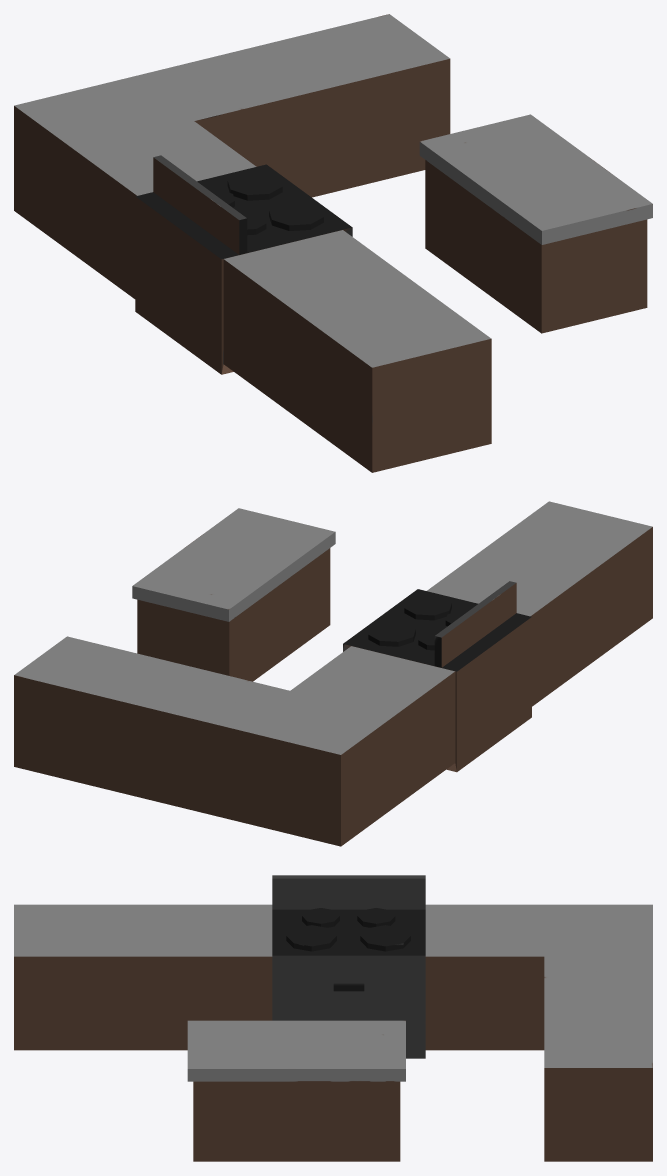
The model's file is counter.fbx.
3 renders of one model, top to bottom at view 1: azimuth 30°, elevation 25°; view 2: azimuth 150°, elevation 25°; view 3: azimuth 270°, elevation 25°, orthographic. The views are drawn at different scales.
Parts seen in each view (by area): view 1: counter; view 2: counter; view 3: counter.
Boxes of the visible parts, x1,y1,x2,y2 form: counter: (14,14,652,472); counter: (14,501,652,846); counter: (14,875,652,1161).
Size of the model in its own units: 308 by 115 by 497.
